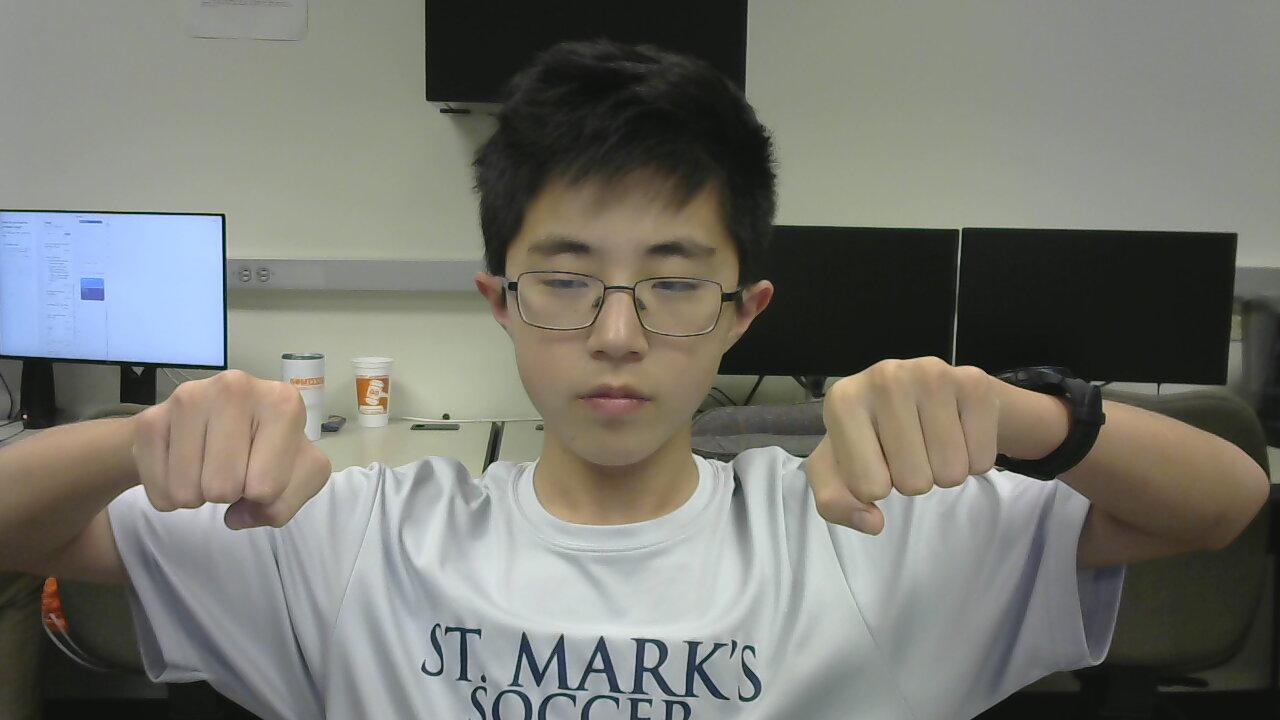fist: (801, 344, 1027, 543), (116, 357, 354, 538)
